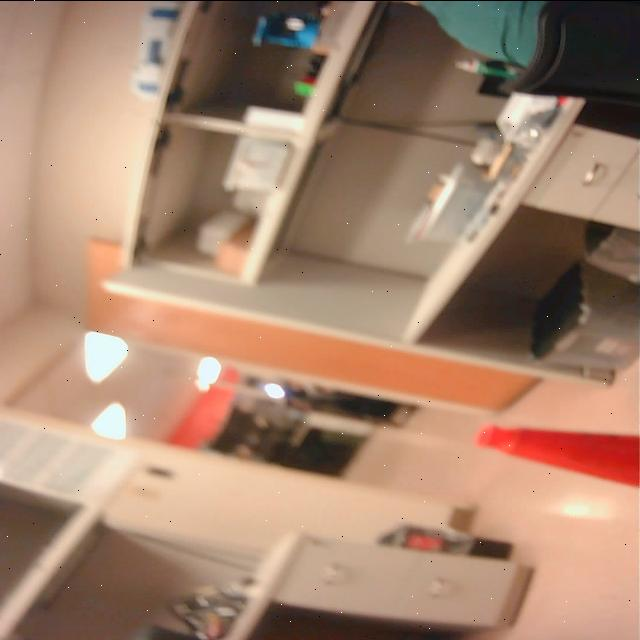traffic cone: (467, 420, 640, 500)
